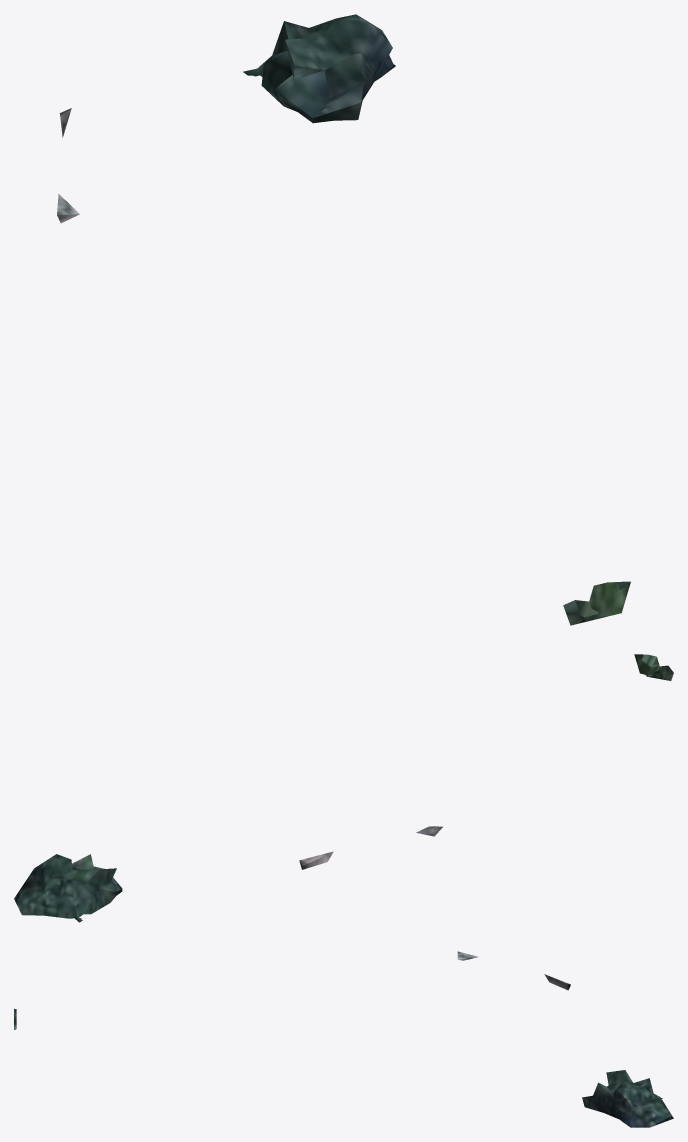
3 views of the same model, one above another, from view 1: azimuth 30°, elevation 25°; view 2: azimuth 150°, elevation 25°; view 3: azimuth 270°, elevation 25° (orthographic). The views are drawn at different scales.
Parts seen in each view (by area): view 1: 30436272704361734735_0; view 2: 30436272704361734735_0; view 3: 30436272704361734735_0.
Boxes of the visible parts, box(x1,y1,x2,y2) form: 30436272704361734735_0: box(57, 14, 630, 625); 30436272704361734735_0: box(14, 654, 673, 922); 30436272704361734735_0: box(14, 951, 673, 1127).
Size of the model in its own units: 16.87 by 3.24 by 37.64.
Materials: 1 (1 with a texture image).
